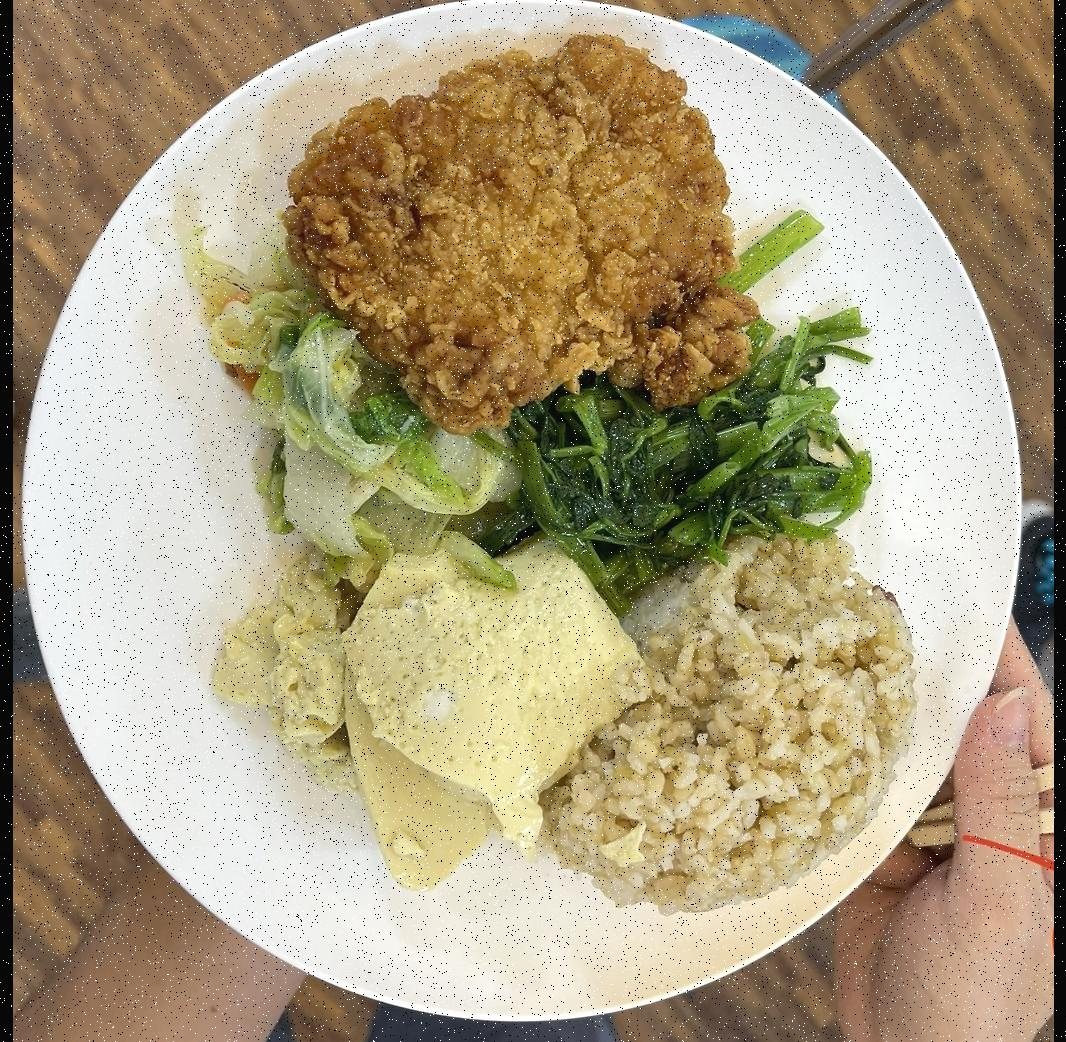big fried chicken leg: (30, 6, 1036, 1042)
box: (539, 556, 931, 924)
braised fish fillet: (232, 531, 641, 896), (190, 264, 511, 561), (502, 336, 866, 572)
braised pork: (308, 24, 766, 426)
